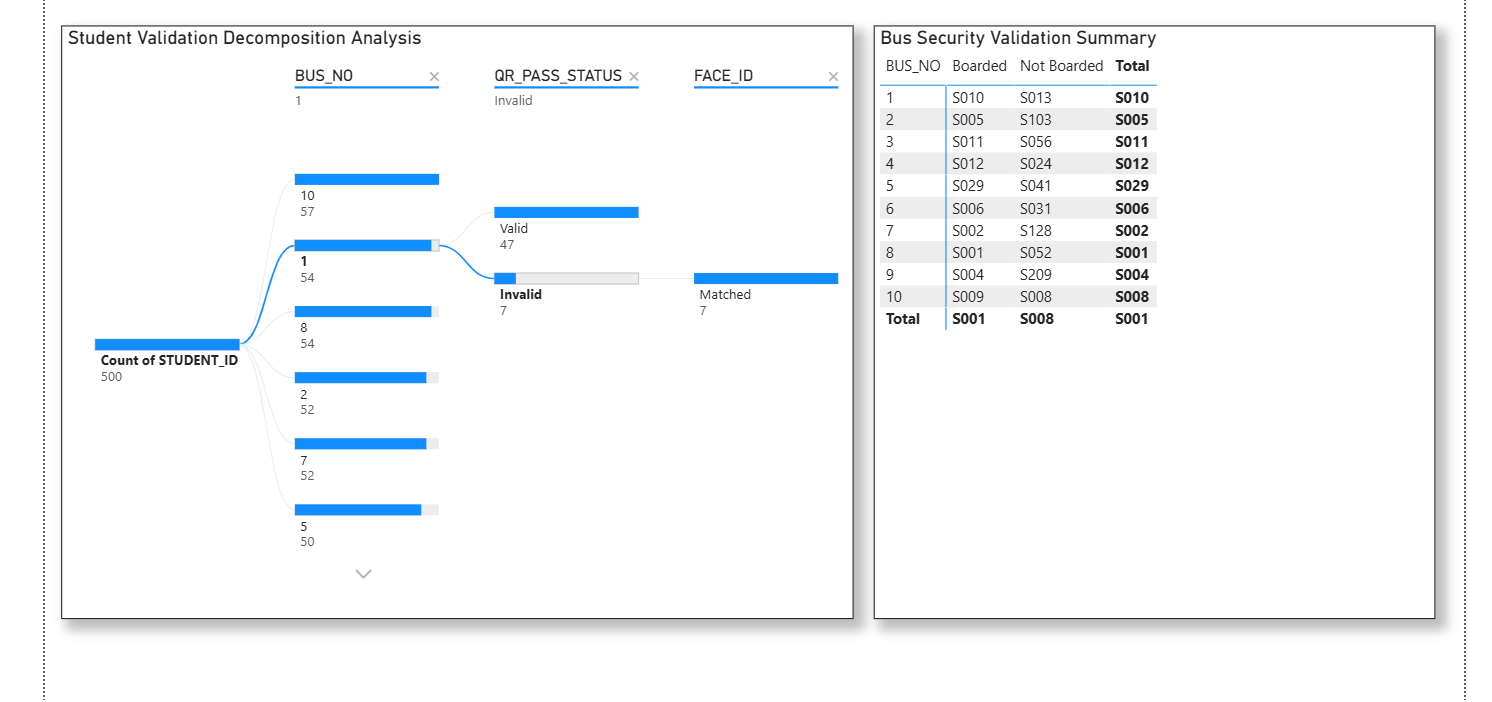

This screenshot's page, from the dashboard's own definition file:
{"tool":"powerbi","page":{"name":"Advanced/Unique Dashboard","canvas":[1280,720],"ordinal":3},"visuals":[{"type":"decompositionTreeVisual","title":"Student Validation Decomposition Analysis","fields":{"Analyze":["CountNonNull(Student_Details.STUDENT_ID)"],"ExplainBy":["Student_Details.BUS_NO","Student_Details.QR_PASS_STATUS","Student_Details.FACE_ID"]},"box":[14.9,29.9,714,534.9],"z":0},{"type":"pivotTable","title":"Bus Security Validation Summary","fields":{"Rows":["Student_Details.BUS_NO"],"Columns":["Student_Details.BOARDING_STATUS"],"Values":["Min(Student_Details.STUDENT_ID)"]},"box":[747.6,29.9,506.3,534.9],"z":1000}]}

Visuals, with their boxes on the page's 1280x720 design canvas (x1, y1, x2, y2). These are canvas units, not pixel positions in the 1492x702 screenshot, which may show the page scaled, cropped or inside an application window:
"Student Validation Decomposition Analysis" decompositionTreeVisual: crop(15, 30, 729, 565)
"Bus Security Validation Summary" pivotTable: crop(748, 30, 1254, 565)
